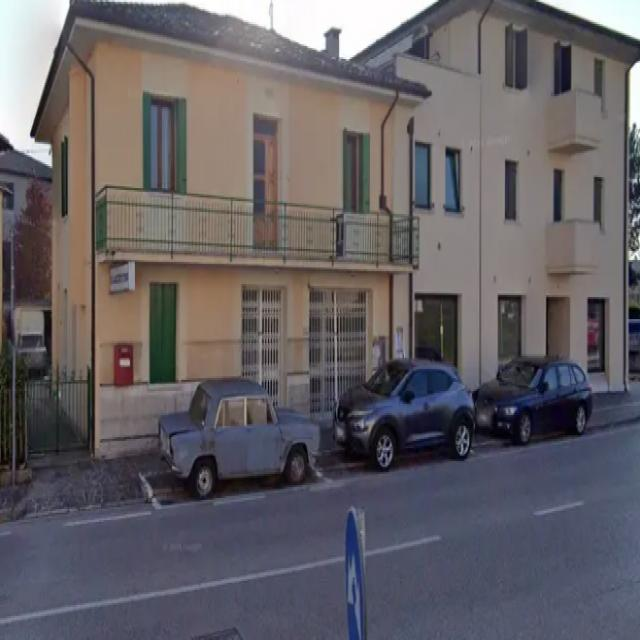car: (485, 335, 594, 433), (360, 356, 463, 456), (170, 378, 290, 460)
door: (412, 288, 480, 470), (309, 282, 371, 442), (242, 273, 292, 468), (496, 290, 538, 454), (545, 300, 586, 443), (589, 298, 623, 406)
window: (243, 94, 284, 243), (147, 278, 185, 391), (146, 96, 186, 188), (343, 128, 372, 226), (589, 158, 611, 235), (443, 143, 465, 215), (507, 20, 529, 91), (550, 163, 574, 228), (552, 32, 572, 104), (415, 141, 434, 216), (590, 47, 610, 111), (503, 151, 518, 221)
